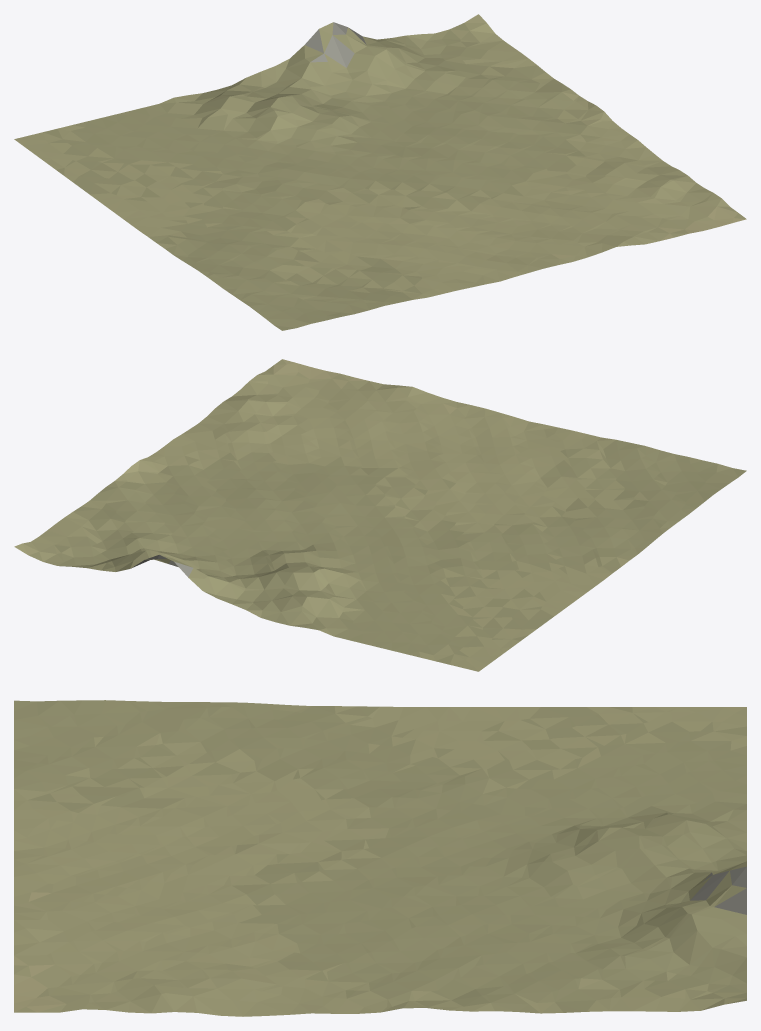
The model's file is Ground_3_-2.glb.
The picture shows the model from 3 angles, top to bottom: view 1: azimuth 30°, elevation 25°; view 2: azimuth 150°, elevation 25°; view 3: azimuth 270°, elevation 25°; orthographic projection. The views are drawn at different scales.
Parts seen in each view (by area): view 1: Ground_3_-2; view 2: Ground_3_-2; view 3: Ground_3_-2.
Part boxes in pixels (left/top/right/bottom): Ground_3_-2: left=14, top=14, right=746, bottom=330; Ground_3_-2: left=14, top=359, right=746, bottom=671; Ground_3_-2: left=14, top=700, right=746, bottom=1016.
Bounding box in the file's own units: 768 × 61.96 × 768.
